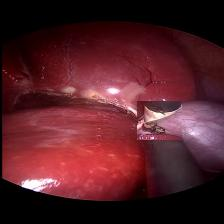Hook: (136, 101, 181, 140)
